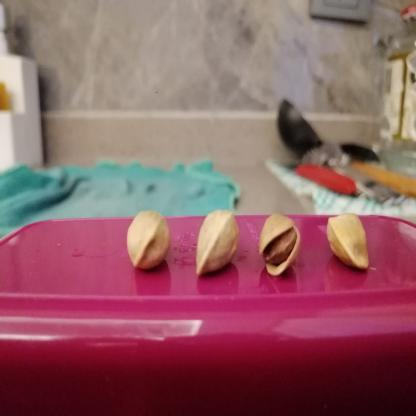pistachio: (194, 209, 244, 278), (257, 211, 304, 276), (125, 206, 173, 267), (326, 216, 374, 268)
